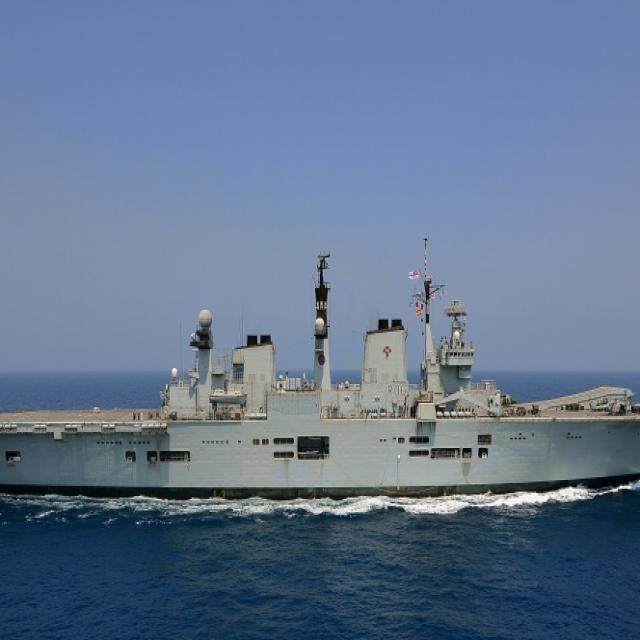Portanaves: (1, 234, 640, 533)
